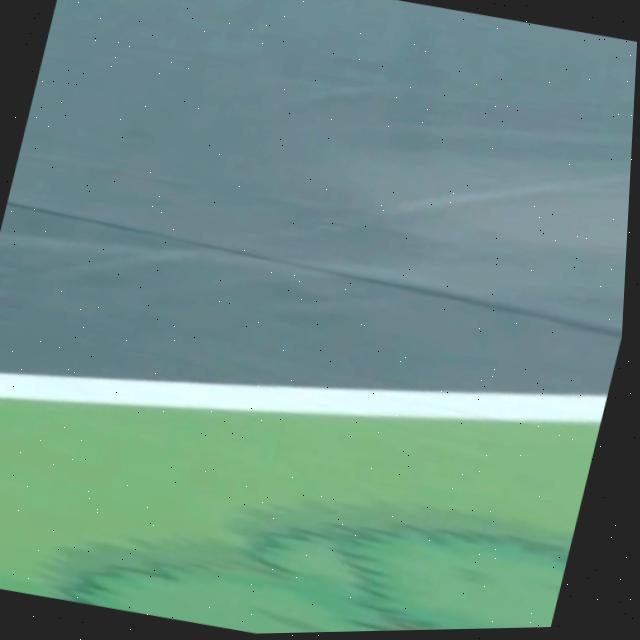right: (0, 372, 607, 423)
